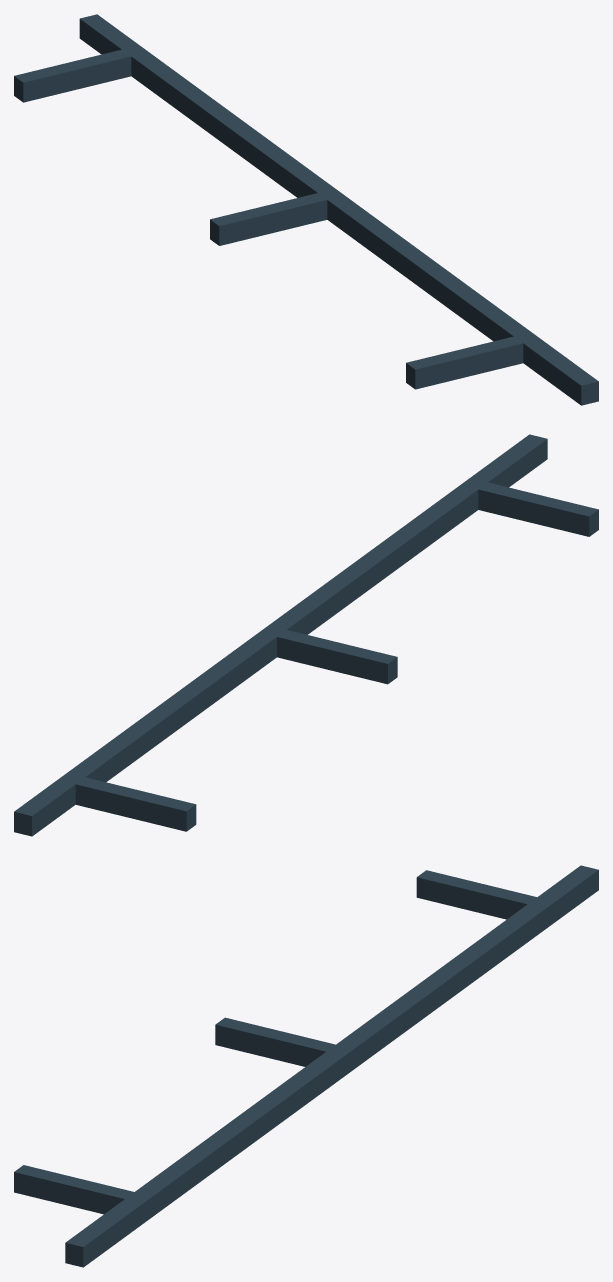
The model's file is v02-transit-world-01-03-07.glb.
3 views of the same model, one above another, from view 1: azimuth 30°, elevation 25°; view 2: azimuth 150°, elevation 25°; view 3: azimuth 330°, elevation 25° (orthographic). The views are drawn at different scales.
Visible parts, largest first — view 1: v02-transit-world-01-03-07; view 2: v02-transit-world-01-03-07; view 3: v02-transit-world-01-03-07.
Boxes of the visible parts, x1,y1,x2,y2 form: v02-transit-world-01-03-07: (14, 14, 598, 405); v02-transit-world-01-03-07: (14, 434, 598, 836); v02-transit-world-01-03-07: (14, 865, 598, 1267).
Bounding box in the file's own units: 9.25 × 1.4 × 63.99.
